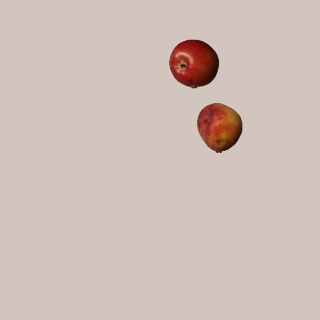Apple Braeburn: (168, 38, 218, 88)
Peach: (194, 102, 244, 152)
